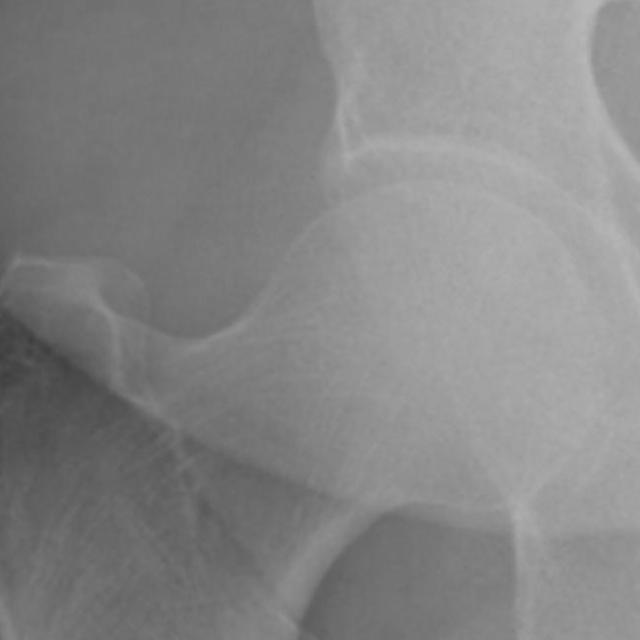Fitted_femural_head: (346, 181, 432, 346)
